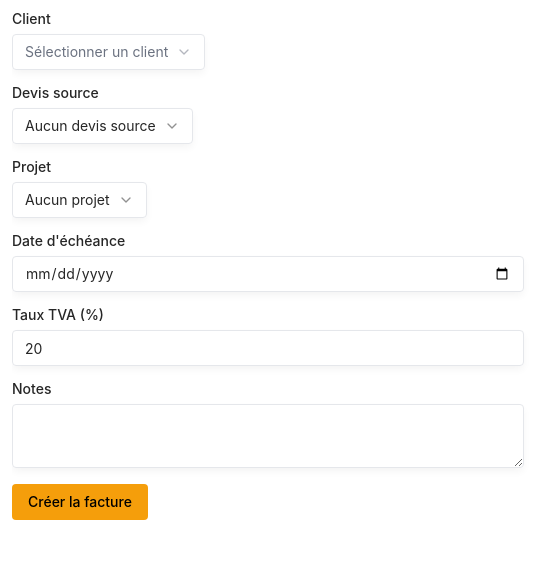
Test: InvoiceForm › T6 — create: sélection quote puis déselection → inputs réactivés
Click the dropdown with test id "invoice-quoteId-select": (102, 126) [12,108,193,144]
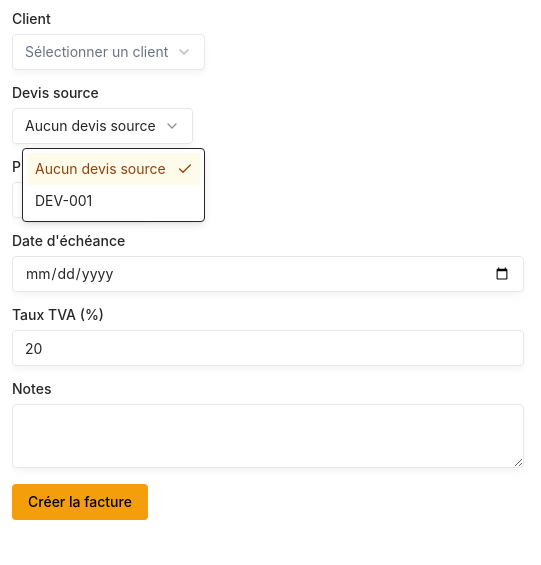
expect the option "DEV-001" is shown: met
Click the option "DEV-001": (64, 200) [35,192,92,209]
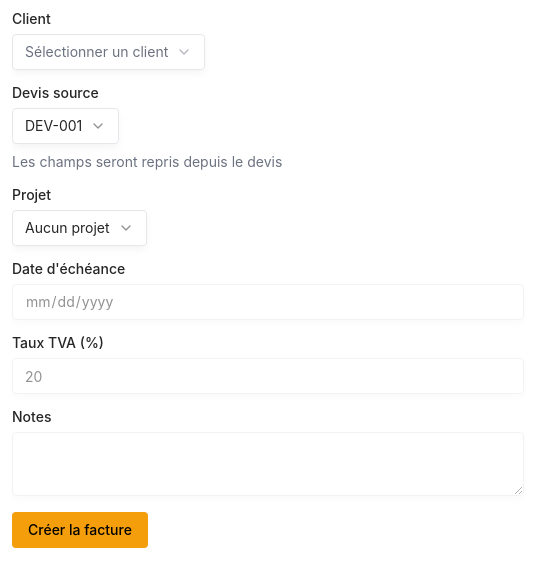
Click the dropdown with test id "invoice-quoteId-select": (66, 126) [12,108,119,144]
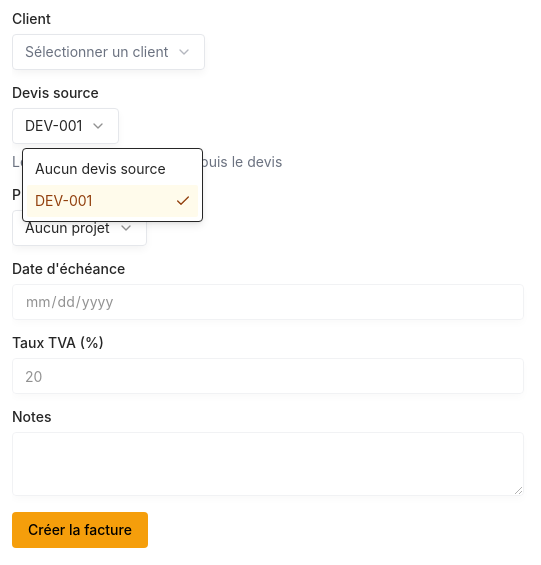
expect the option "Aucun devis source" is shown: met
Click the option "Aucun devis source": (100, 168) [35,160,166,177]
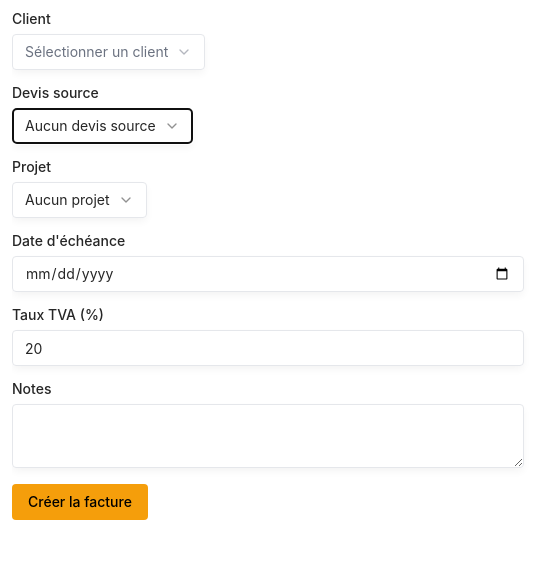
expect the text with test id "invoice-quote-source-hint" is gone: met
expect the dropdown with test id "invoice-projectId-select" is enabled: met, box [12,182,147,218]
expect the date field with test id "invoice-dueAt-input" is enabled: met, box [12,256,524,292]
